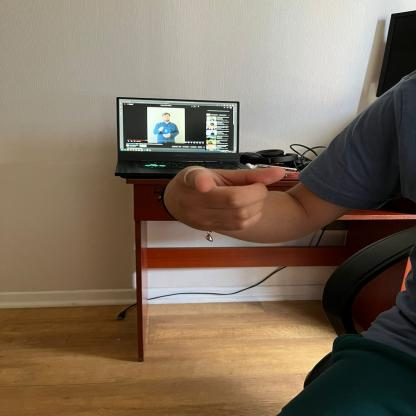X: (157, 160, 288, 229)
